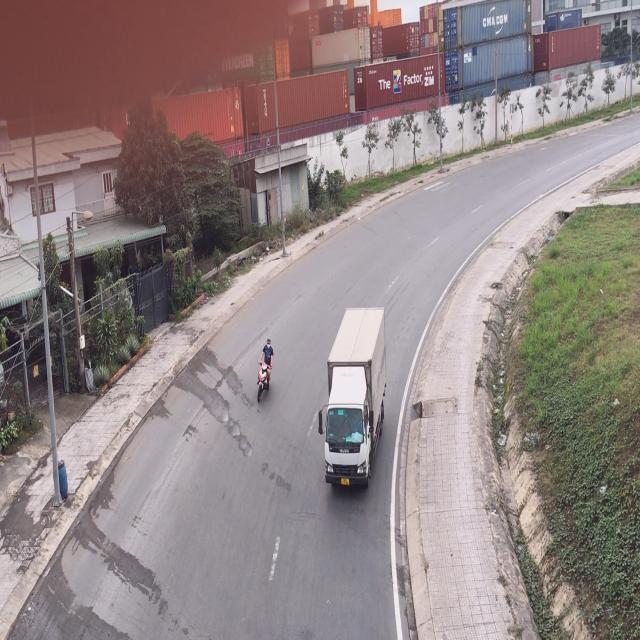motorbike: (258, 336, 275, 404)
truck: (318, 306, 384, 492)
